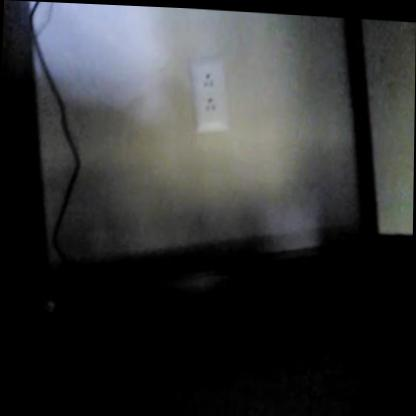OUTLET: (187, 57, 228, 137)
